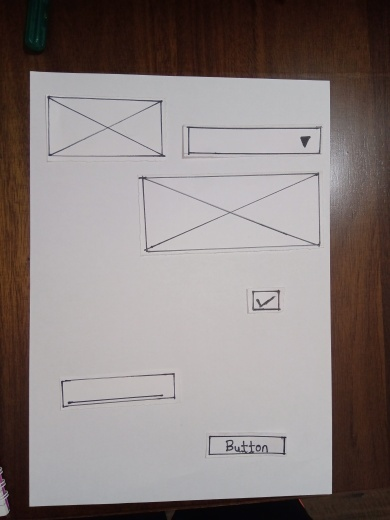button: (211, 438, 291, 456)
checkbox: (251, 288, 281, 312)
dropdown: (183, 124, 325, 152)
img: (142, 181, 322, 245), (48, 97, 165, 155)
text: (60, 375, 175, 407)
